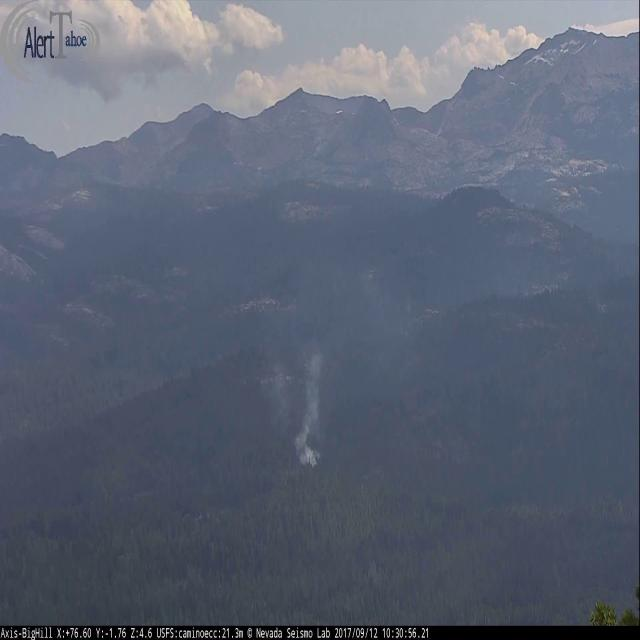smoke: (261, 239, 568, 466)
